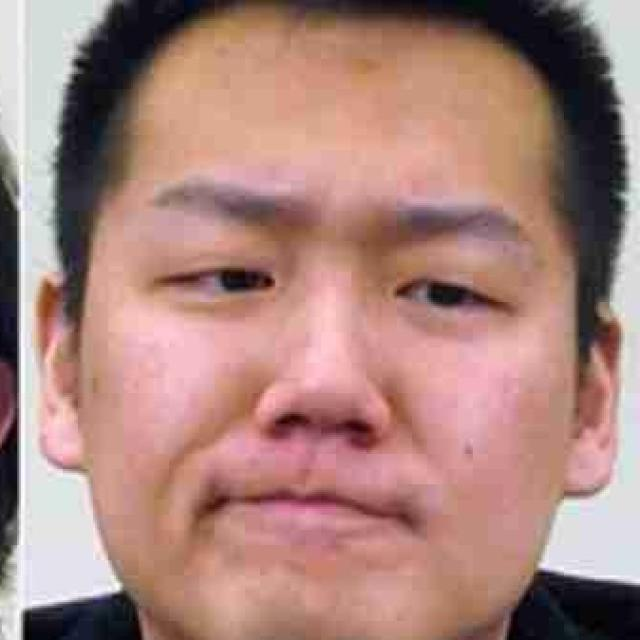Depress: (73, 17, 580, 638)
